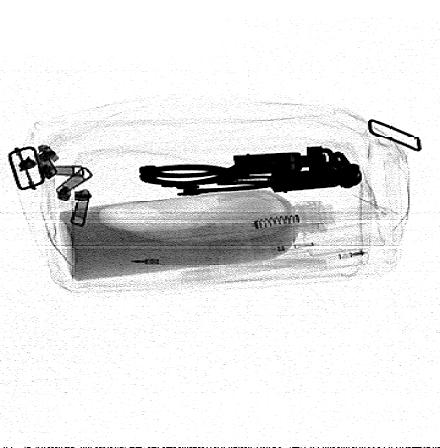HandCuffs: (138, 146, 362, 196)
